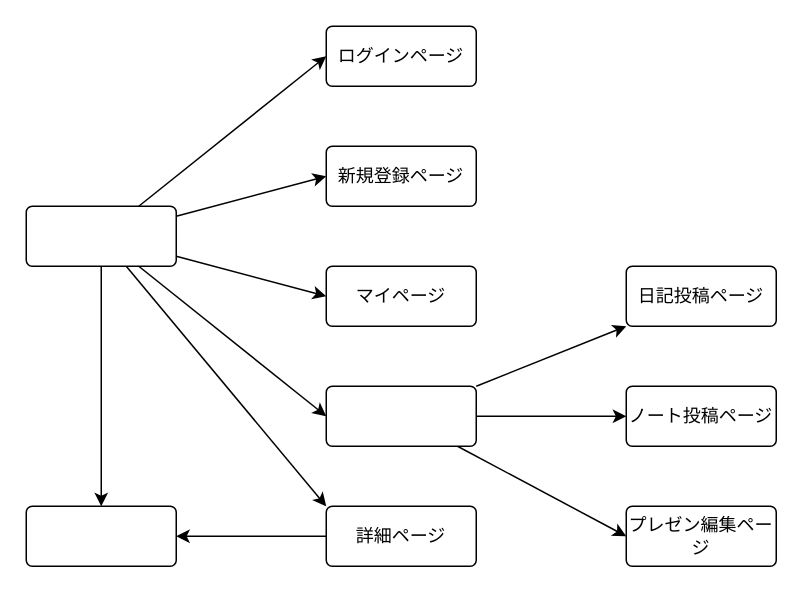
Some shapes in this 803 by 593 pixel diagram are drawn without their labels. Each missing label, with the box of its shape:
トップページ: (25, 205, 176, 266)
他人のマイページ: (25, 505, 176, 566)
投稿ページ: (325, 385, 476, 446)
